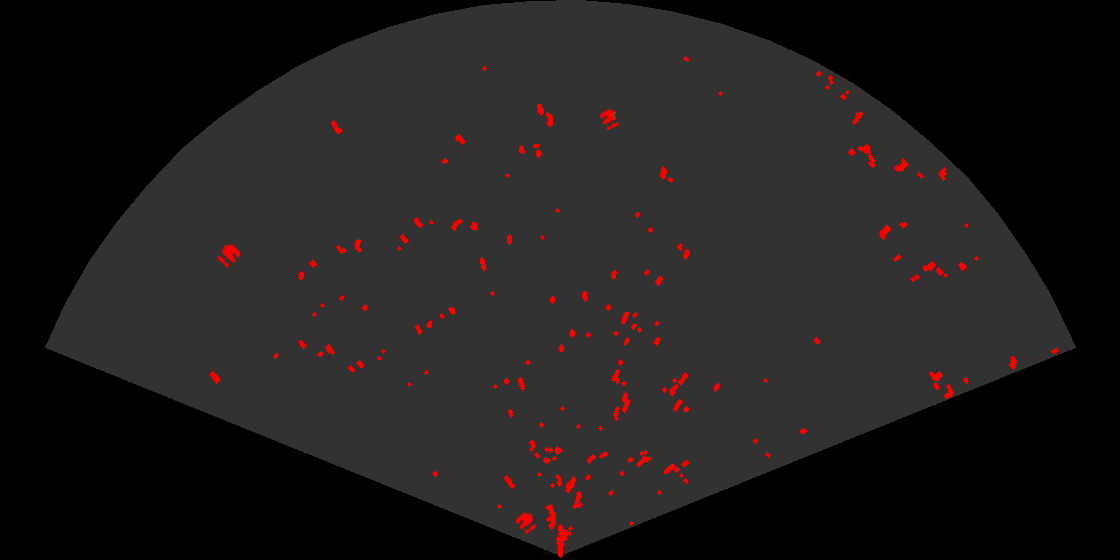ball: (216, 242, 242, 269), (514, 511, 538, 536), (598, 107, 621, 132)
